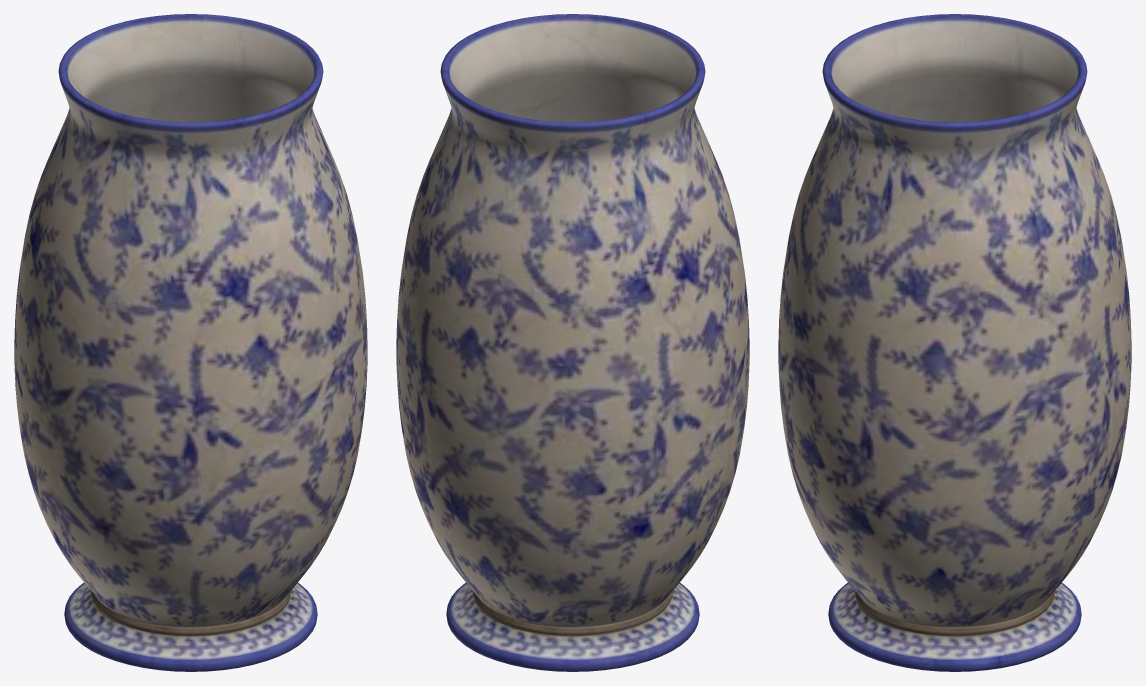
File: antique_ceramic_vase_01.glb
3 renders of one model, left to right at view 1: azimuth 30°, elevation 25°; view 2: azimuth 150°, elevation 25°; view 3: azimuth 270°, elevation 25°, orthographic.
Parts seen in each view (by area): view 1: antique_ceramic_vase_01; view 2: antique_ceramic_vase_01; view 3: antique_ceramic_vase_01.
Boxes of the visible parts, x1,y1,x2,y2 form: antique_ceramic_vase_01: [14, 14, 367, 671]; antique_ceramic_vase_01: [396, 14, 749, 671]; antique_ceramic_vase_01: [778, 14, 1131, 671].
Size of the model in its own units: 0.255 by 0.4396 by 0.255.
1 material, 1 textured.
